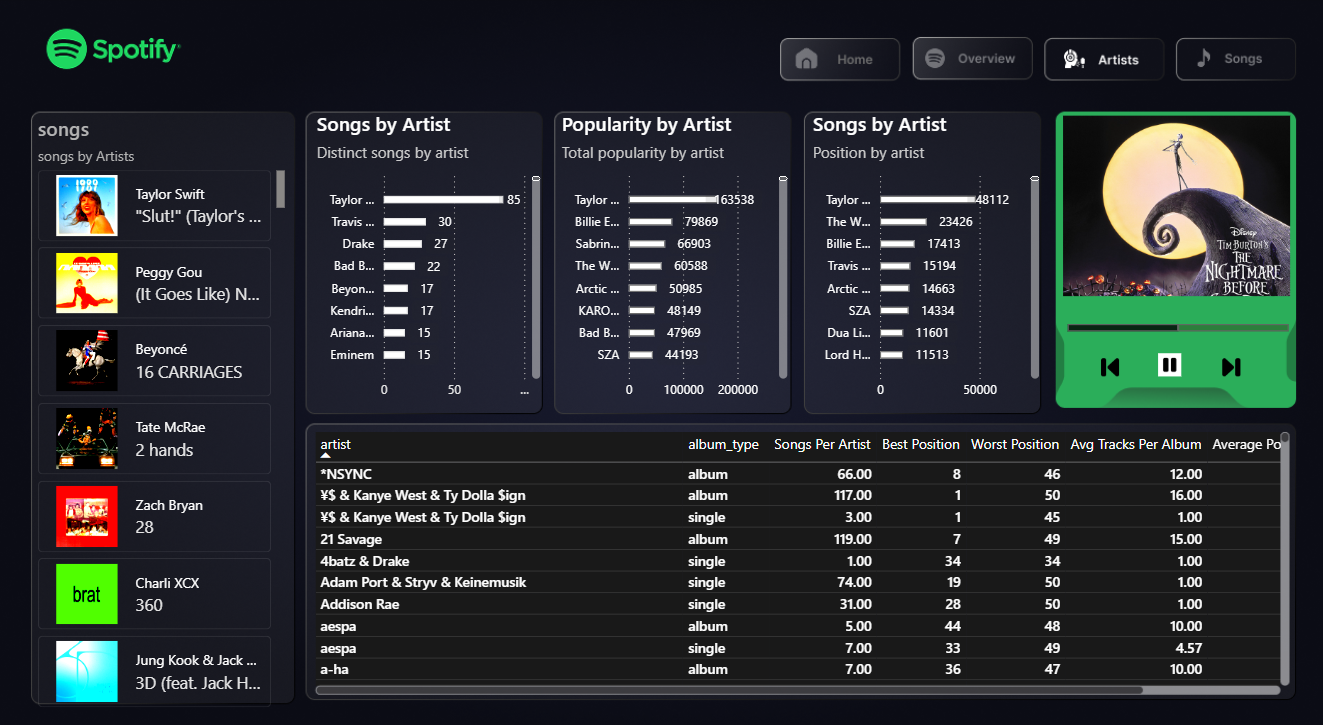

The dashboard page shown, as its layout file describes it:
{"tool":"powerbi","page":{"name":"Artist","canvas":[1280,720],"ordinal":2},"visuals":[{"type":"actionButton","box":[754.7,37.9,114.6,42.2],"z":0},{"type":"actionButton","box":[877.8,37.9,119.4,42.2],"z":1000},{"type":"actionButton","box":[1008.5,39.7,115,41.2],"z":2000},{"type":"actionButton","box":[1136,39.7,115,41.2],"z":3000},{"type":"hundredPercentStackedBarChart","fields":{"Y":["Month.Average Popularity","Avg(Top-50-world.popularity)"]},"box":[1026.7,283.5,223.2,66.4],"z":4000},{"type":"image","box":[1051.9,342,40,30],"z":5000},{"type":"image","box":[1169.4,342,40,30],"z":6000},{"type":"image","box":[1103.1,339.5,55,32.5],"z":7000},{"type":"advancedSlicerVisual","title":"songs ","fields":{"Values":["Top-50-world.song"]},"box":[32.9,114.3,248.6,577.1],"z":8000},{"type":"clusteredBarChart","title":" Songs by Artist","fields":{"Y":["Count(Top-50-world.song)"],"Category":["Top-50-world.artist"]},"box":[302.1,109.9,226.1,287.3],"z":9000},{"type":"clusteredBarChart","title":"Popularity by Artist","fields":{"Y":["Sum(Top-50-world.popularity)"],"Category":["Top-50-world.artist"]},"box":[538.6,110.2,228,287.1],"z":10000},{"type":"tableEx","fields":{"Values":["Top-50-world.artist","Top-50-world.album_type","Month.Songs Per Artist","Month.Best Position","Month.Worst Position","Month.Avg Tracks Per Album","Month.Average Popularity","Month.Popularity Rank"]},"box":[299.8,414.7,951.8,263.5],"z":11000},{"type":"clusteredBarChart","title":" Songs by Artist","fields":{"Category":["Top-50-world.artist"],"Y":["Sum(Top-50-world.position)"]},"box":[780,110,228.6,287.1],"z":12000},{"type":"cardVisual","fields":{"Data":["Min(Top-50-world.album_cover_url)"]},"box":[855.7,110,391.4,187.1],"z":13000}]}

Visuals, with their boxes in screenshot pixels (x1, y1, x2, y2), scaled from the page's 1280x720 canvas onto the 1323x725 screenshot:
actionButton: 780:38:899:81
actionButton: 907:38:1031:81
actionButton: 1042:40:1161:81
actionButton: 1174:40:1293:81
hundredPercentStackedBarChart - Month.Average Popularity x Avg(Top-50-world.popularity): 1061:285:1292:352
image: 1087:344:1129:375
image: 1209:344:1250:375
image: 1140:342:1197:375
"songs " advancedSlicerVisual: 34:115:291:696
" Songs by Artist" clusteredBarChart: 312:111:546:400
"Popularity by Artist" clusteredBarChart: 557:111:792:400
tableEx - Top-50-world.artist x Top-50-world.album_type: 310:418:1294:683
" Songs by Artist" clusteredBarChart: 806:111:1042:400
cardVisual - Min(Top-50-world.album_cover_url): 884:111:1289:299
